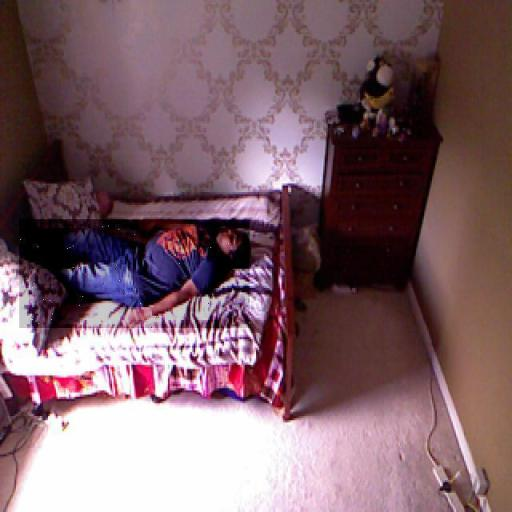Fall: (19, 220, 250, 329)
